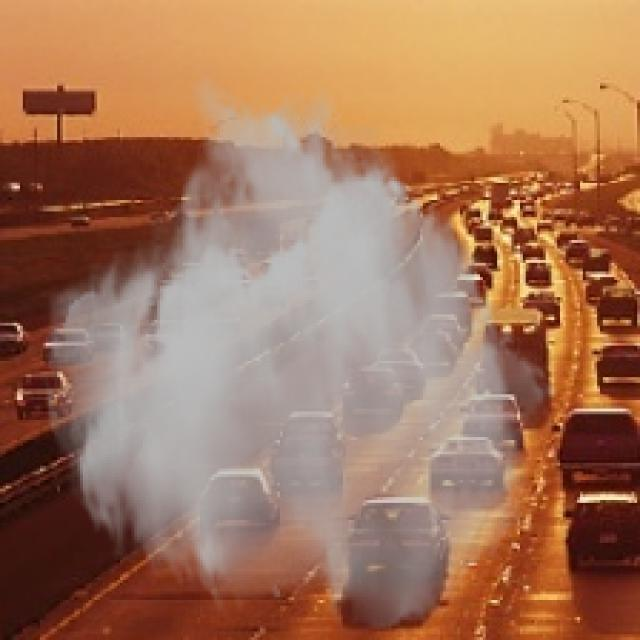Smoke: (40, 71, 557, 634)
